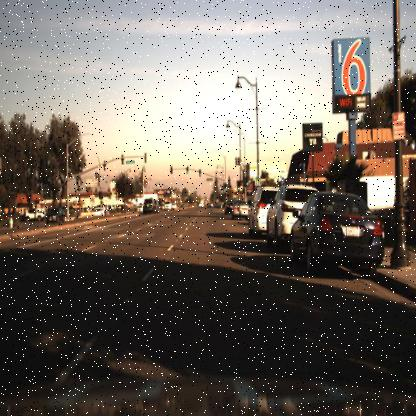car: (288, 194, 384, 274), (264, 183, 319, 252), (263, 181, 297, 251), (245, 183, 269, 242), (229, 196, 251, 223), (44, 204, 67, 228), (140, 194, 158, 221), (20, 206, 44, 224), (26, 206, 46, 224), (43, 207, 63, 224), (90, 203, 106, 220), (222, 198, 233, 220)
